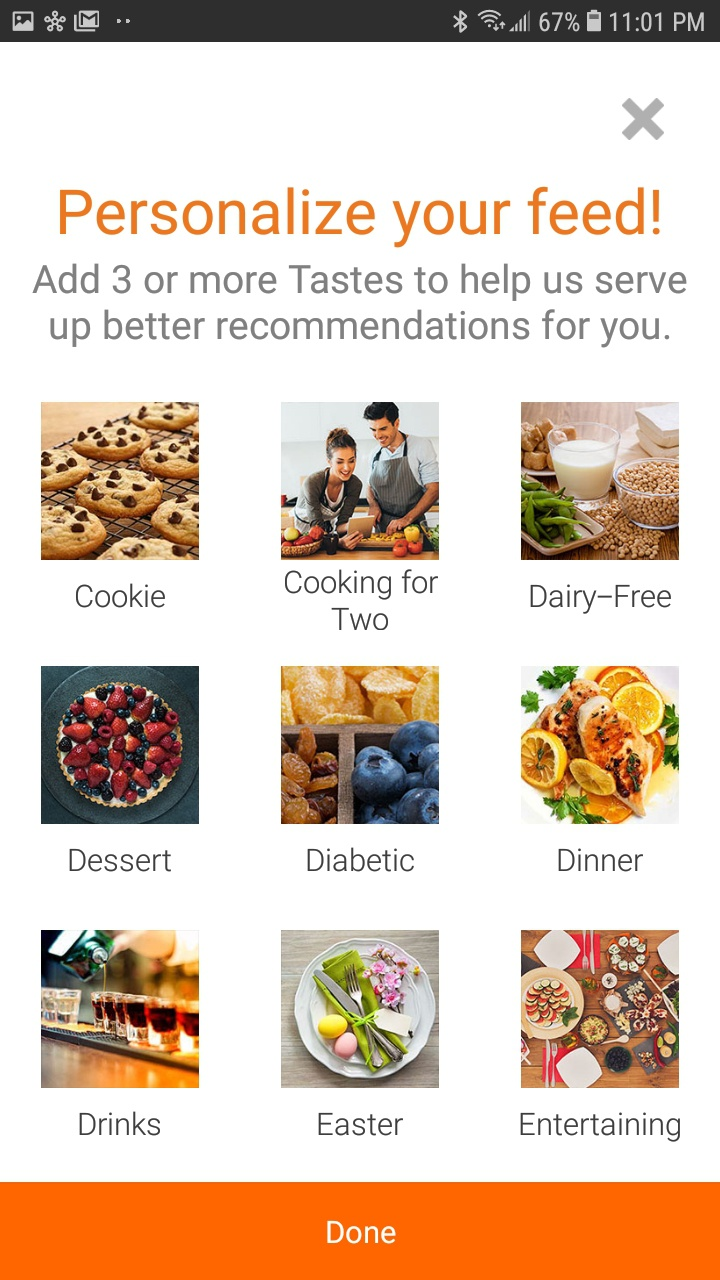Icon: (621, 98, 665, 142)
Image: (281, 666, 440, 825), (41, 402, 200, 561), (281, 930, 440, 1088), (42, 666, 200, 825), (521, 666, 679, 825), (281, 403, 440, 561), (42, 930, 200, 1088), (521, 930, 679, 1088), (521, 403, 679, 561)
Text: (32, 263, 688, 349), (60, 186, 661, 249), (285, 569, 439, 631), (520, 1112, 680, 1143), (530, 584, 672, 615), (307, 847, 415, 872), (70, 849, 172, 873), (76, 583, 166, 609), (558, 848, 644, 873), (318, 1112, 404, 1136), (80, 1111, 161, 1136)
TextButton: (1, 1182, 720, 1280)
UpperTaskBar: (1, 1, 720, 43)
